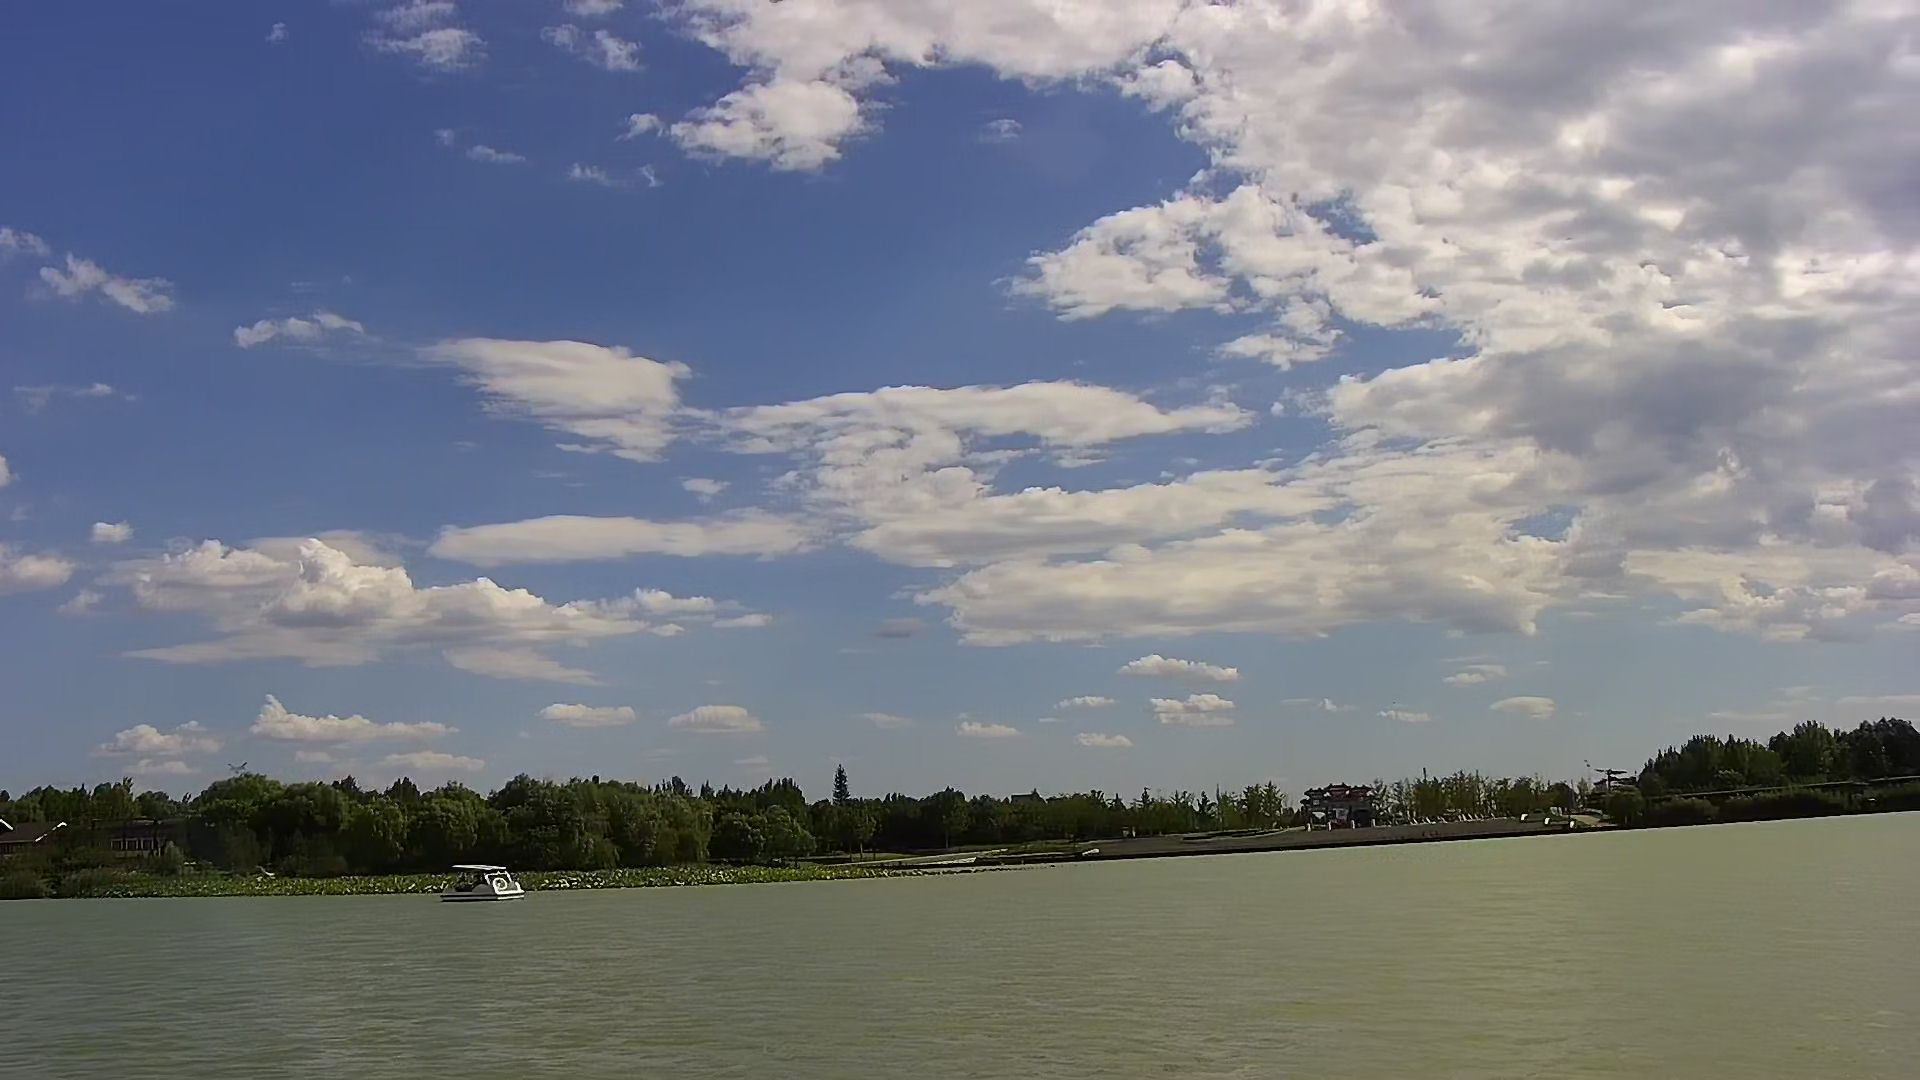boat: (440, 858, 530, 905)
